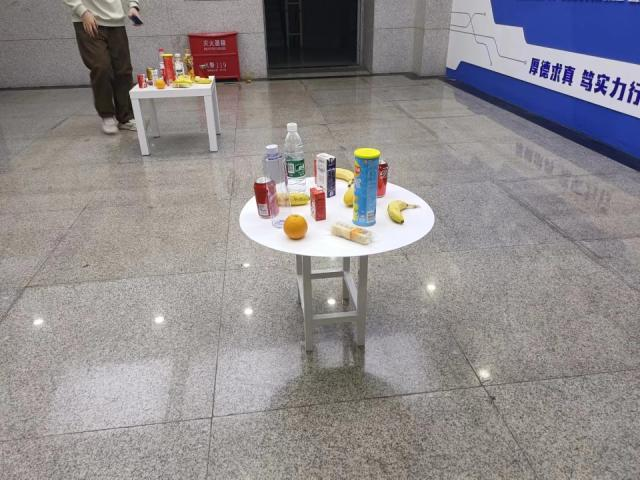Canned_drinks: (253, 176, 279, 218), (373, 157, 389, 199)
bottle: (261, 144, 294, 230), (283, 123, 308, 194)
cylinder: (352, 147, 379, 226)
drink_box: (317, 152, 336, 197), (309, 187, 327, 221)
